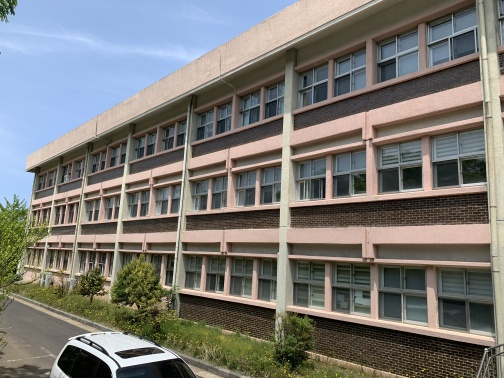College Of Education: (19, 33, 499, 346)
